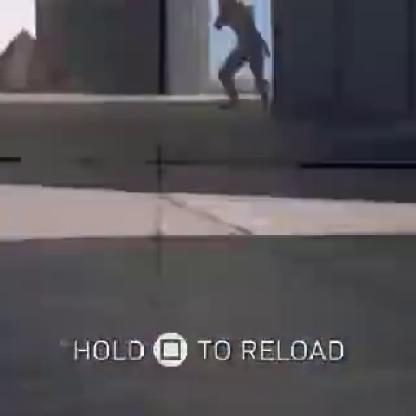enemy: (212, 0, 272, 109)
